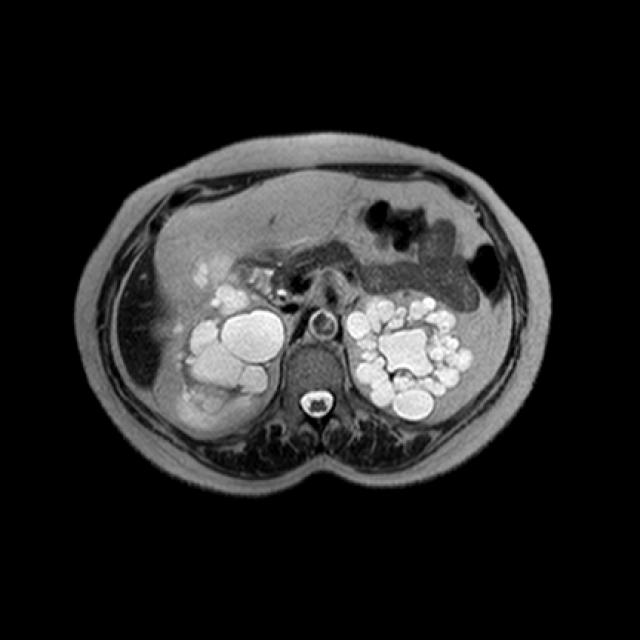sag: (154, 250, 283, 432)
sol: (344, 287, 480, 426)
